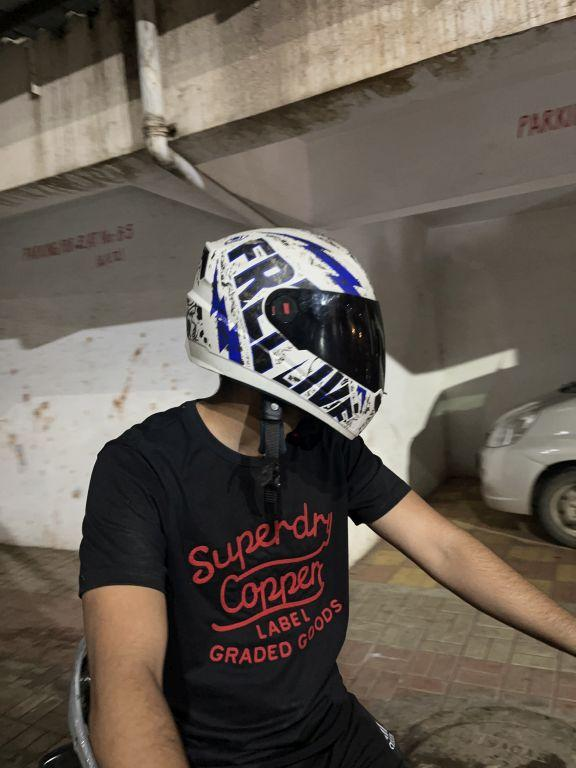helmet: (174, 210, 397, 455)
